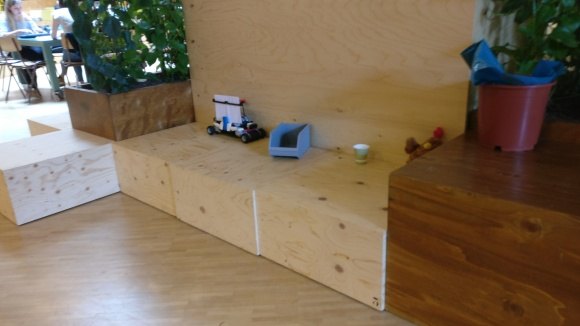car: (205, 94, 267, 143)
cup: (352, 142, 370, 165)
tray: (268, 121, 312, 159)
